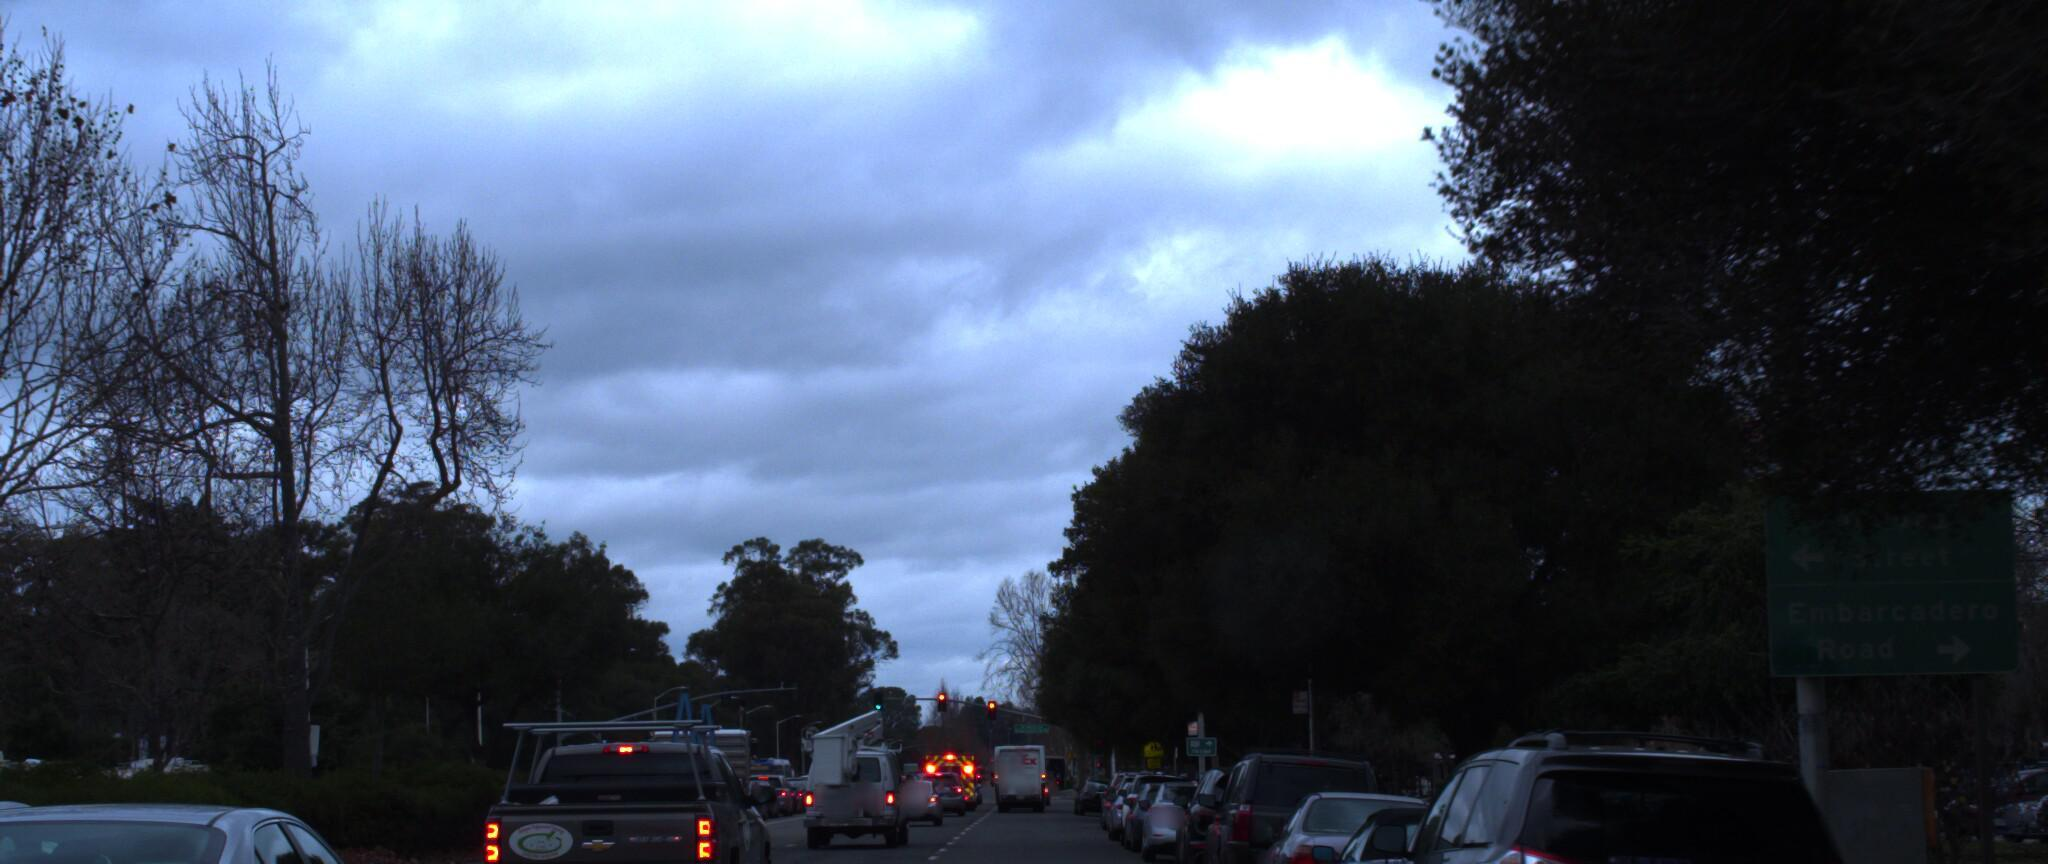car: (1364, 713, 1889, 864), (475, 698, 790, 864), (0, 778, 481, 864), (1190, 727, 1400, 864), (1292, 777, 1600, 864), (1238, 764, 1481, 864), (1159, 747, 1330, 864), (0, 782, 133, 864)
other_vehicle: (802, 692, 917, 833), (0, 732, 99, 864)
truck: (611, 673, 760, 852)
